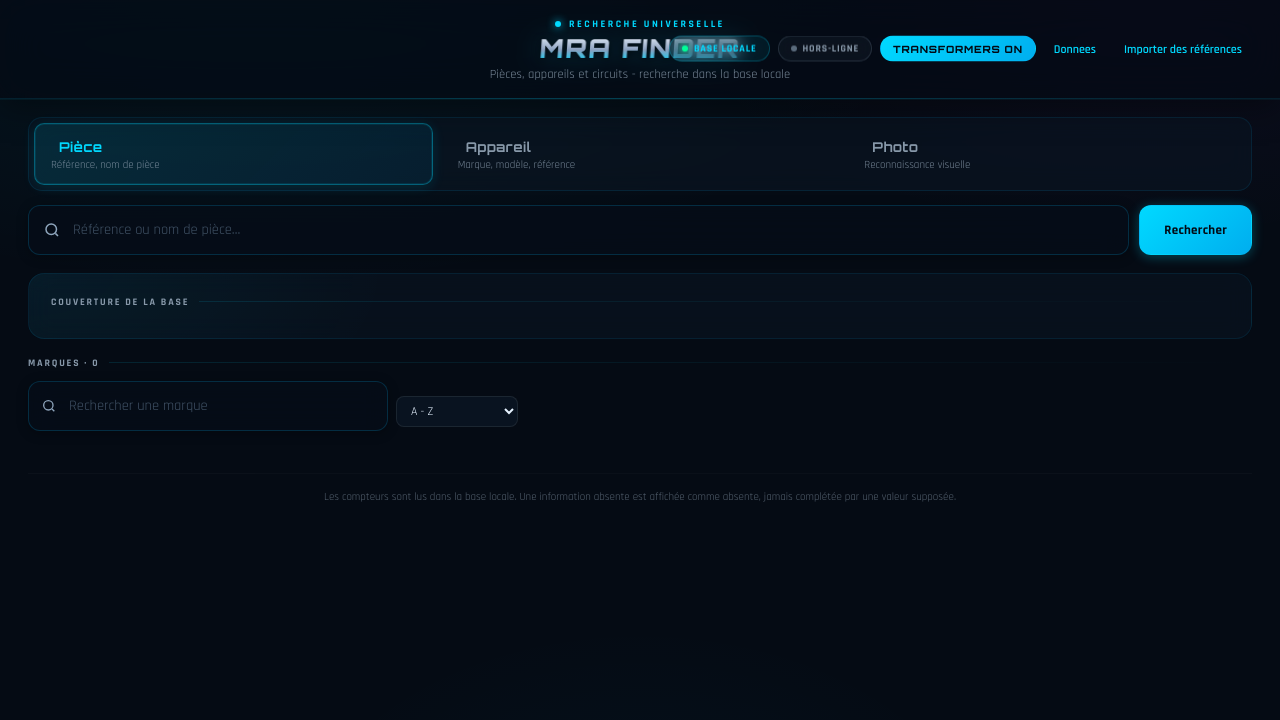
Test: MRA FINDER — écran › un import refusé nomme la raison au lieu de faire croire au succès
The image size is (1280, 720).
Click the button "Importer des références": [1183, 49] box [1114,35,1252,62]
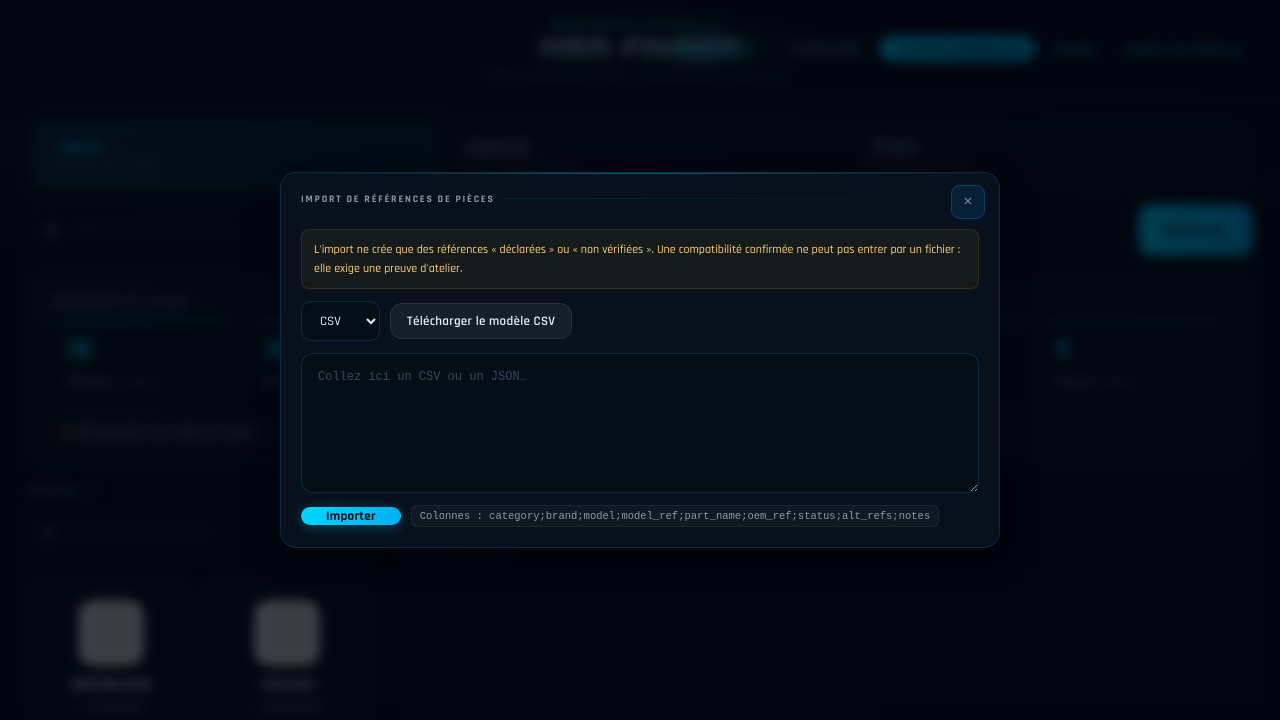
In the text box labelled "Collez ici un CSV ou un JSON…": [640, 423] box [301,353,979,493], type "x"
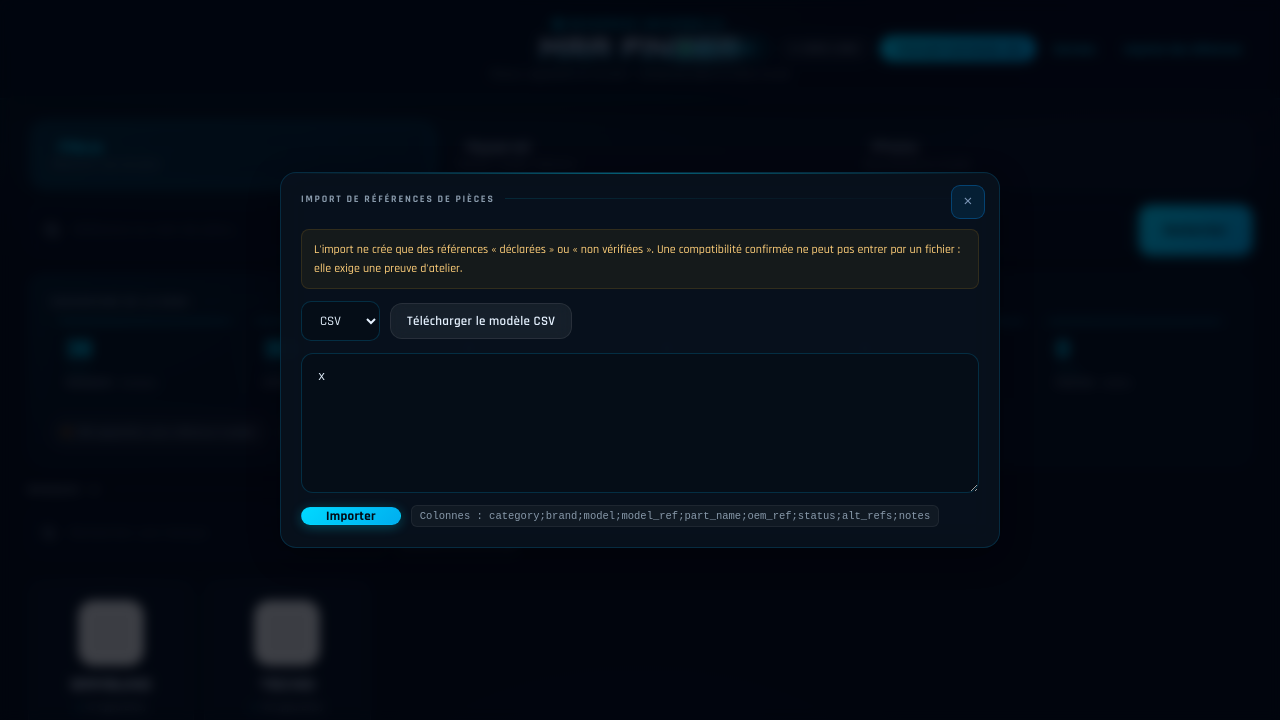
Click the button "Importer": [351, 516] box [301,507,401,525]
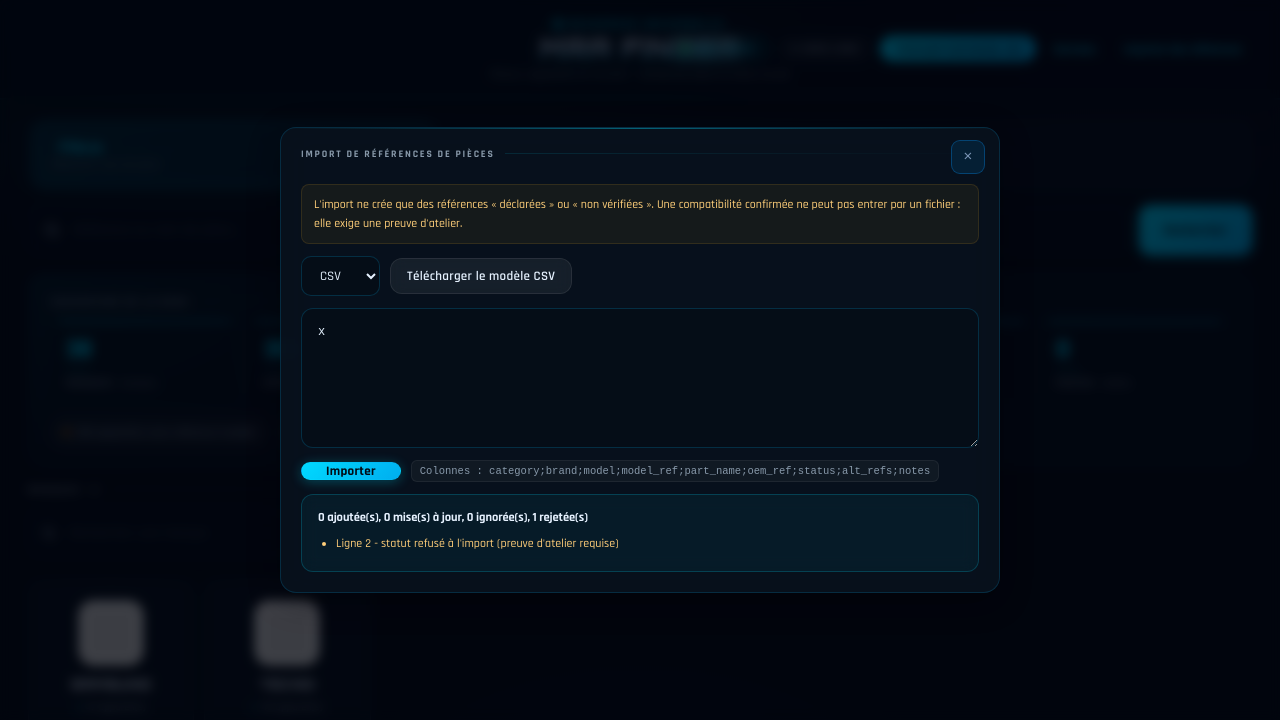
Check: the text "statut refusé à l'import (preuve d'atelier requise)" is shown, box [381,536,619,551]
